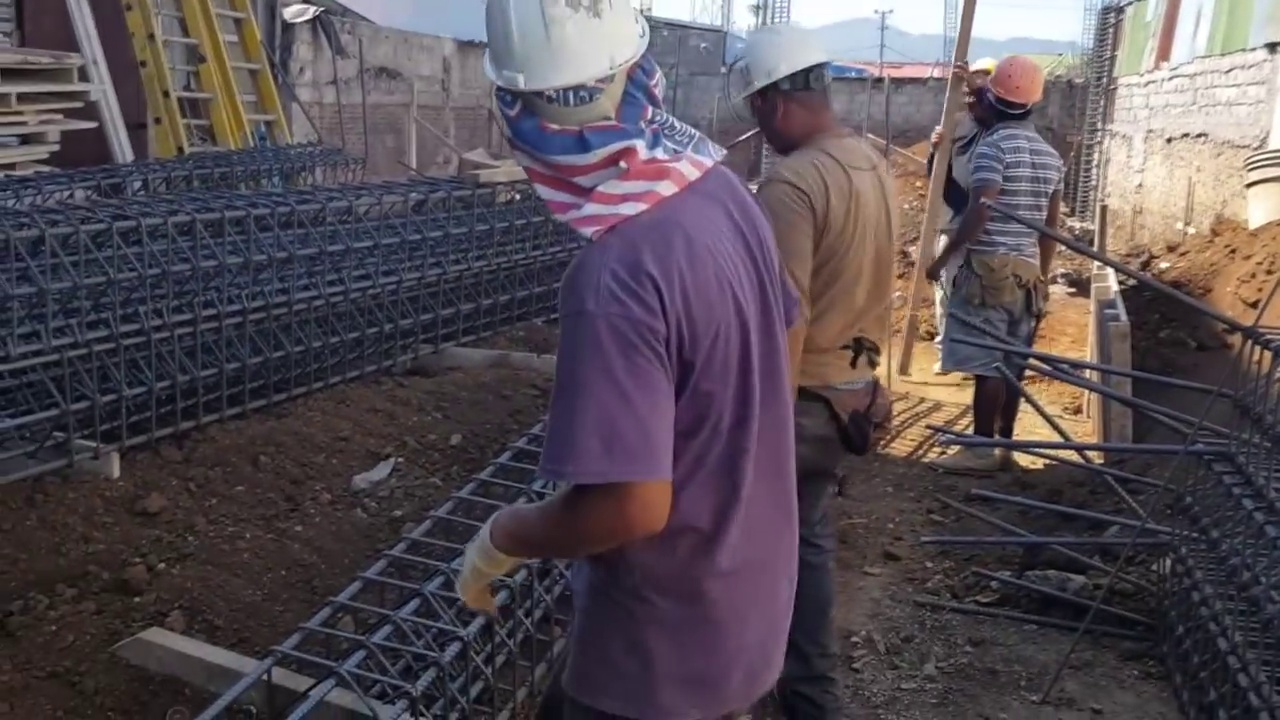helmet: (483, 2, 652, 98), (739, 10, 825, 101), (989, 57, 1046, 102), (965, 55, 996, 75)
helmet-on: (481, 0, 712, 246), (738, 20, 857, 149), (983, 56, 1046, 131), (960, 54, 995, 122)
person: (454, 0, 797, 717), (734, 29, 897, 713), (935, 36, 1065, 466), (920, 46, 996, 378)
